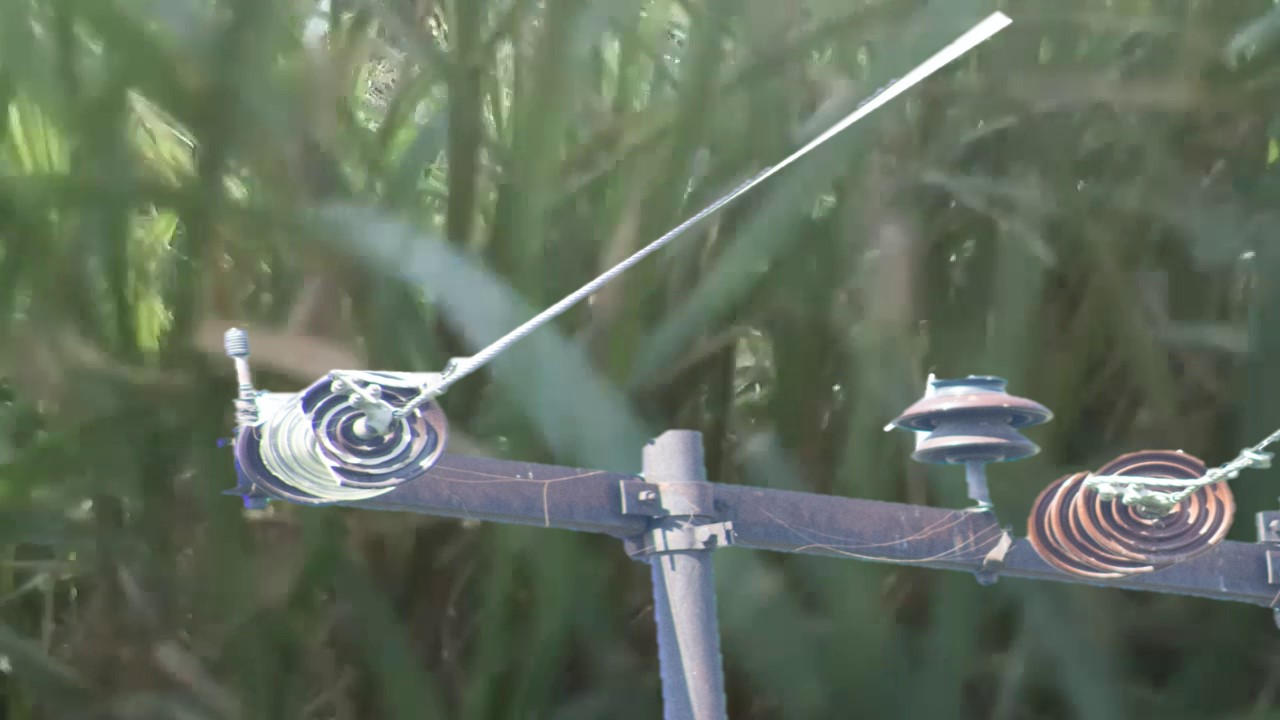defect_disc: (300, 366, 451, 496)
insulator_disc: (1075, 441, 1239, 569)
